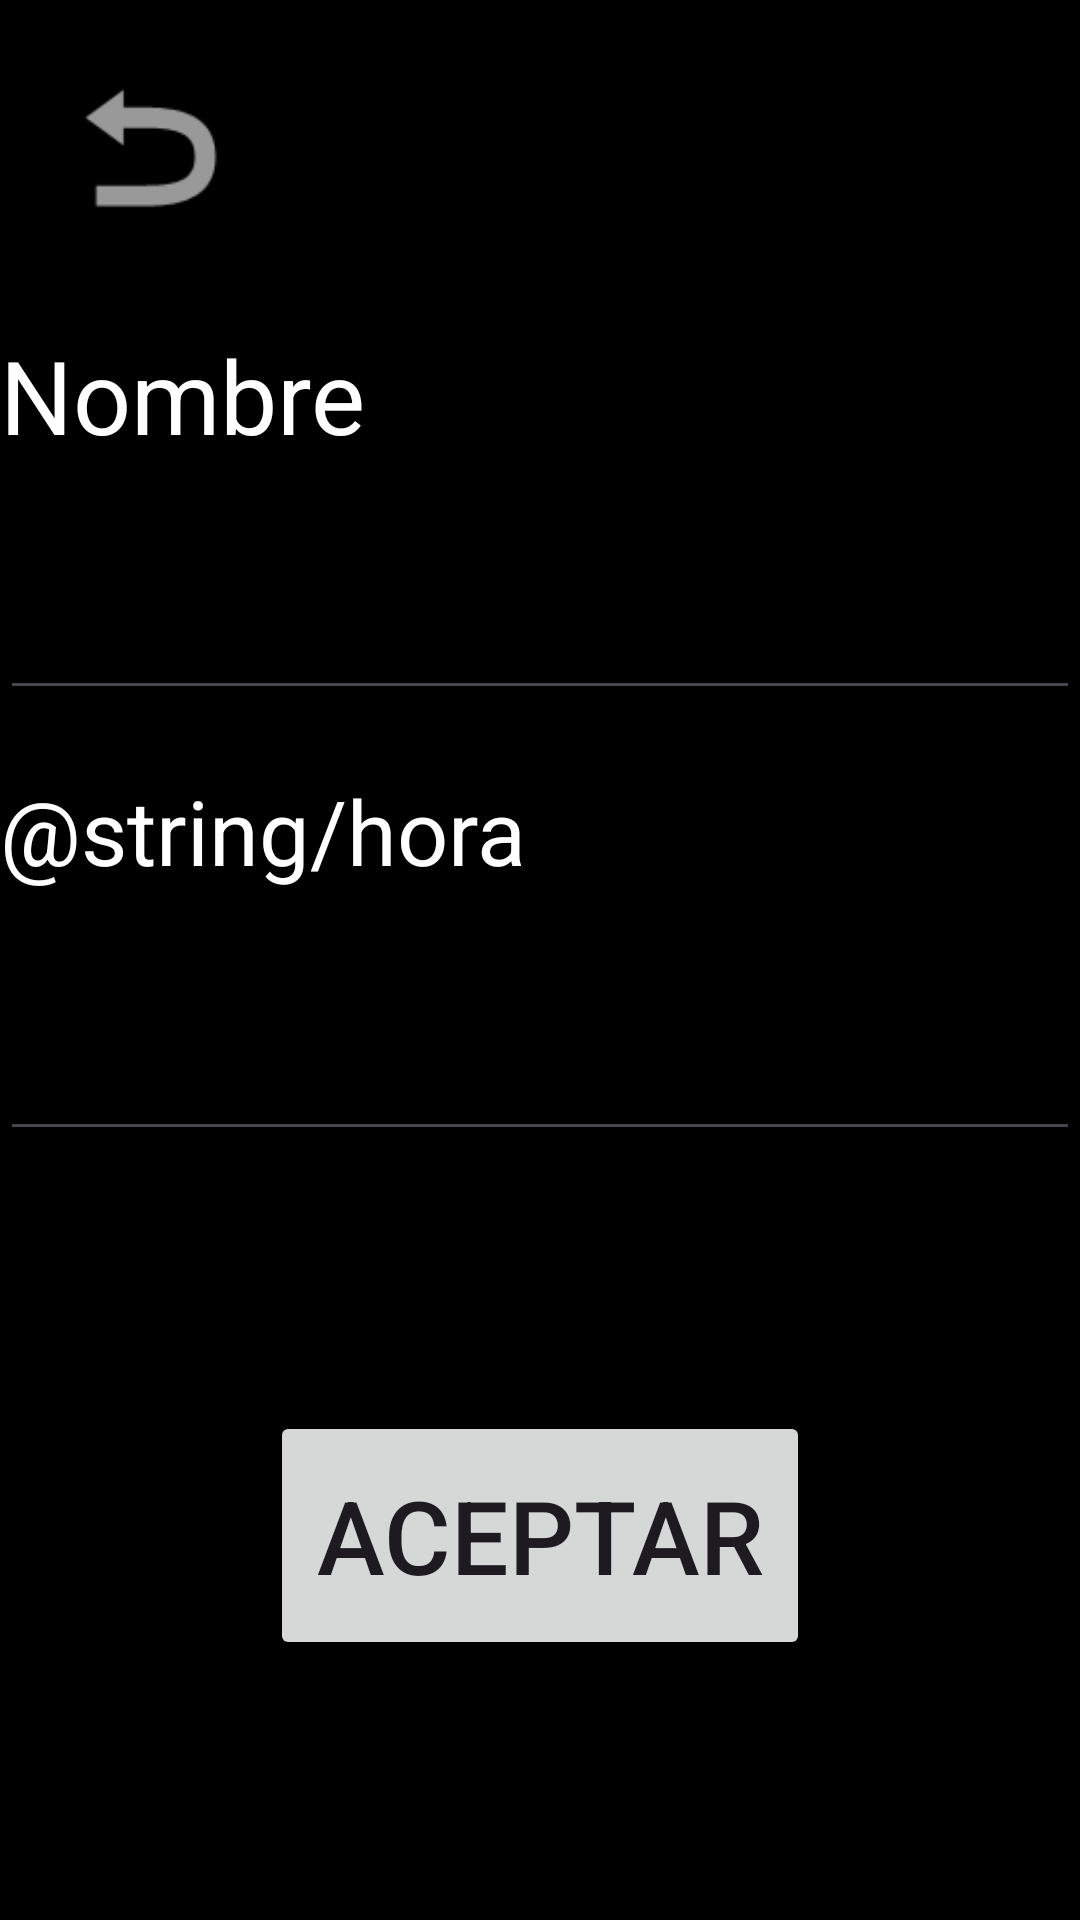

Where icons sit on this 1080 x 1920 app screen, as (x1,y1,x2,y2):
revert: (86,89,217,207)
